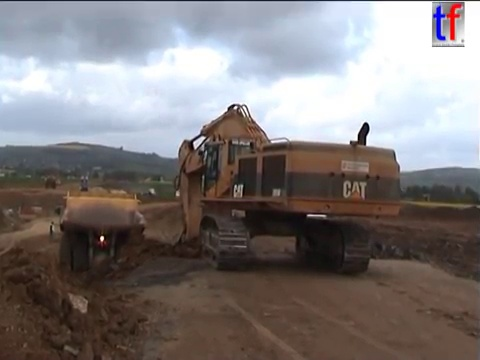excavator: (156, 101, 403, 278)
truck: (54, 186, 147, 274), (126, 186, 157, 197), (42, 176, 56, 189)
worker: (47, 219, 55, 240)
